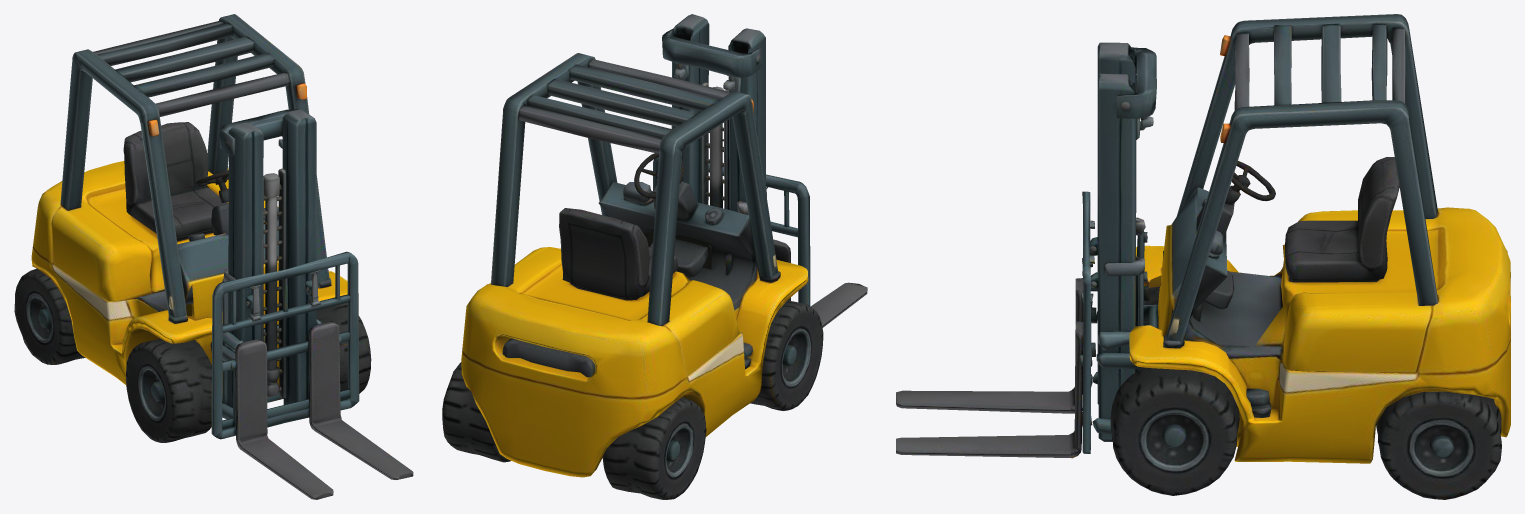
File: timber-forklift.glb
3 renders of one model, left to right at view 1: azimuth 30°, elevation 25°; view 2: azimuth 150°, elevation 25°; view 3: azimuth 270°, elevation 25°, orthographic. The views are drawn at different scales.
Parts seen in each view (by area): view 1: geometry_0; view 2: geometry_0; view 3: geometry_0.
Part boxes in pixels (bbox=[...]): geometry_0: bbox=[14, 14, 413, 499]; geometry_0: bbox=[442, 14, 867, 499]; geometry_0: bbox=[896, 14, 1510, 499].
Size of the model in its own units: 1.4 by 2.1 by 3.06.
1 material, 1 textured.
